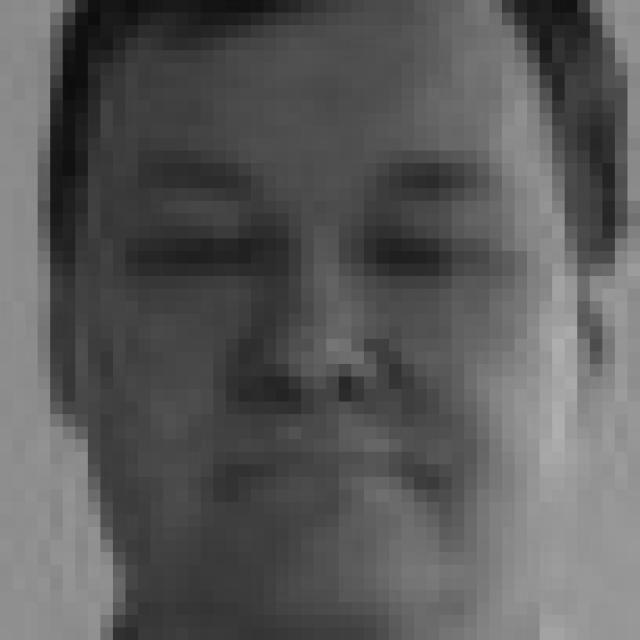real: (58, 14, 562, 632), (128, 202, 522, 306)
